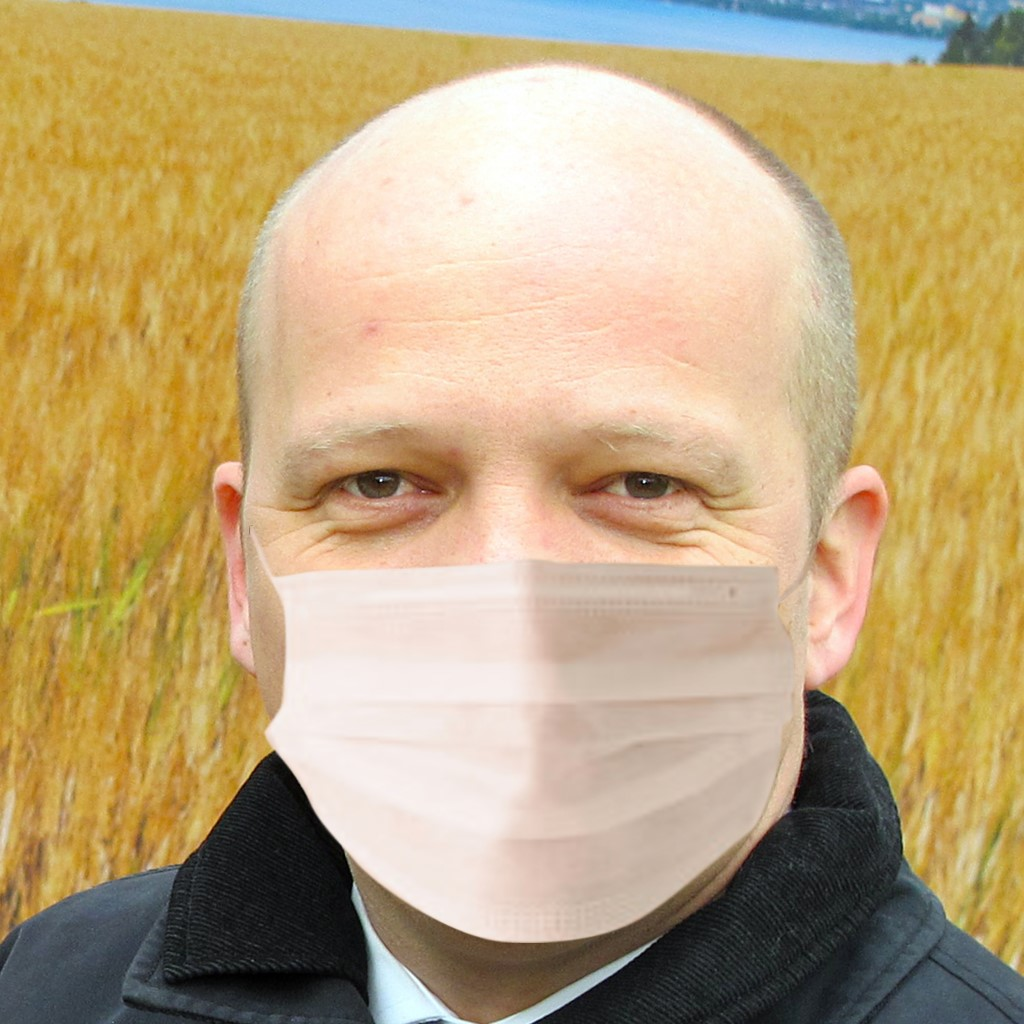con_mascara: (225, 77, 869, 954)
